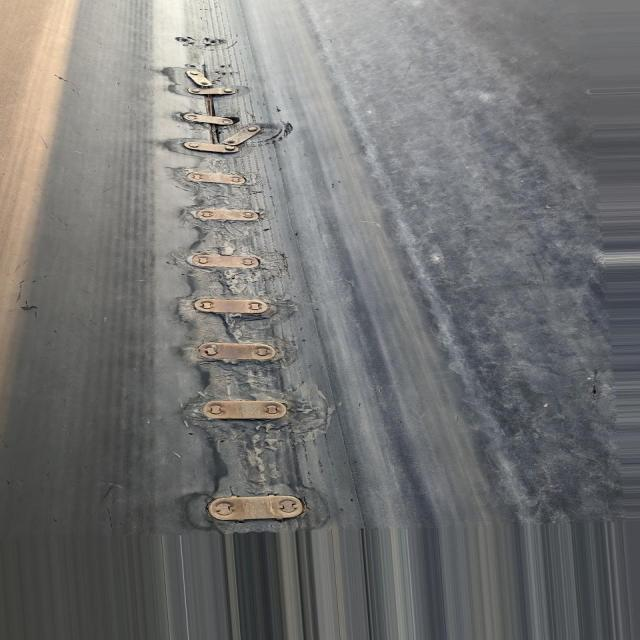patch work: (154, 31, 331, 539)
